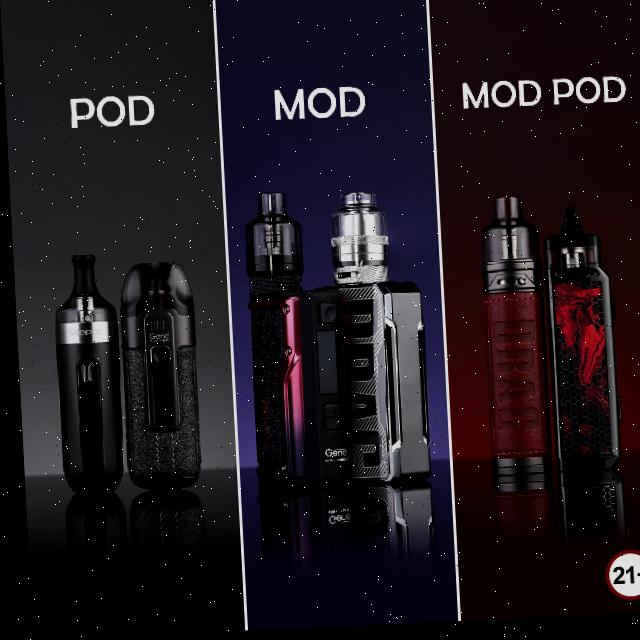vape: (310, 192, 428, 491), (240, 192, 346, 490), (540, 210, 620, 478), (478, 200, 547, 497), (114, 262, 199, 492), (50, 253, 121, 496)
